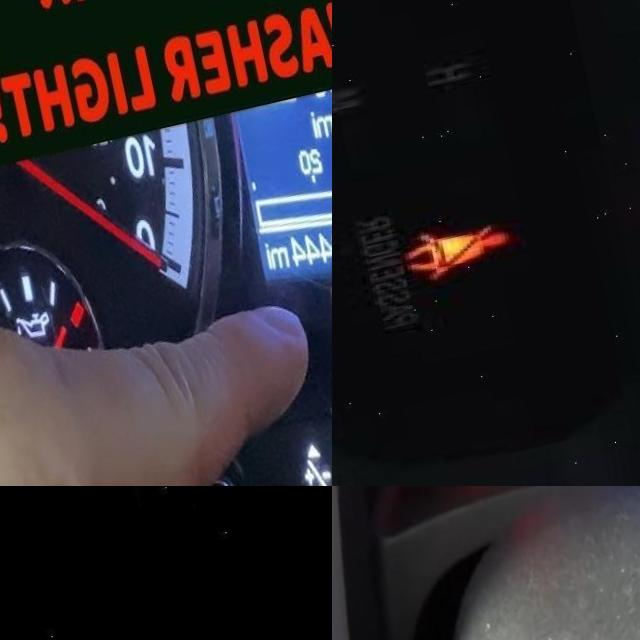Seat Belt: (390, 235, 496, 293)
